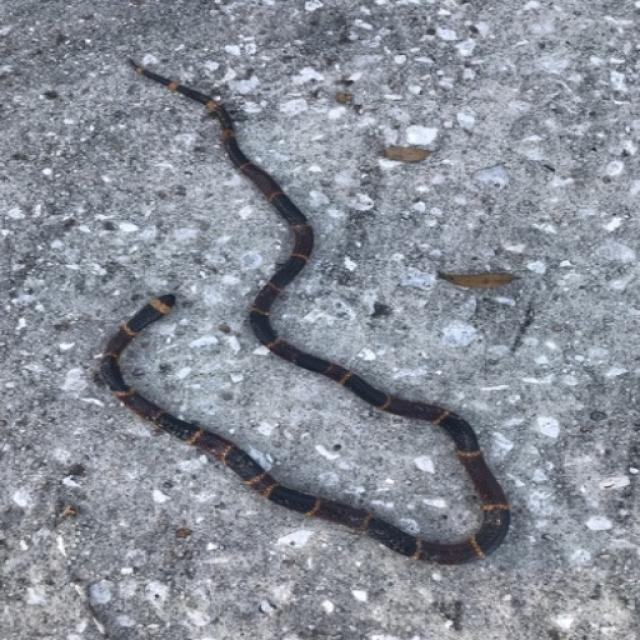snake: (72, 41, 540, 582)
